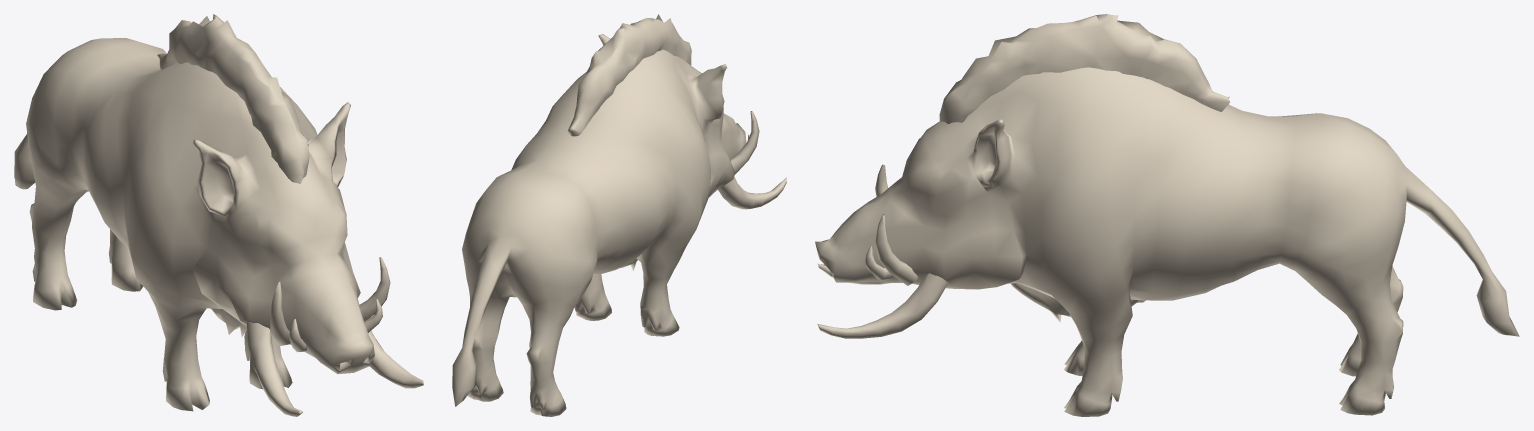
The model's file is 237-gullinbursticlassical.glb.
3 renders of one model, left to right at view 1: azimuth 30°, elevation 25°; view 2: azimuth 150°, elevation 25°; view 3: azimuth 270°, elevation 25°, orthographic. The views are drawn at different scales.
Bounding box in the file's own units: 1.88 × 3.56 × 6.07.
